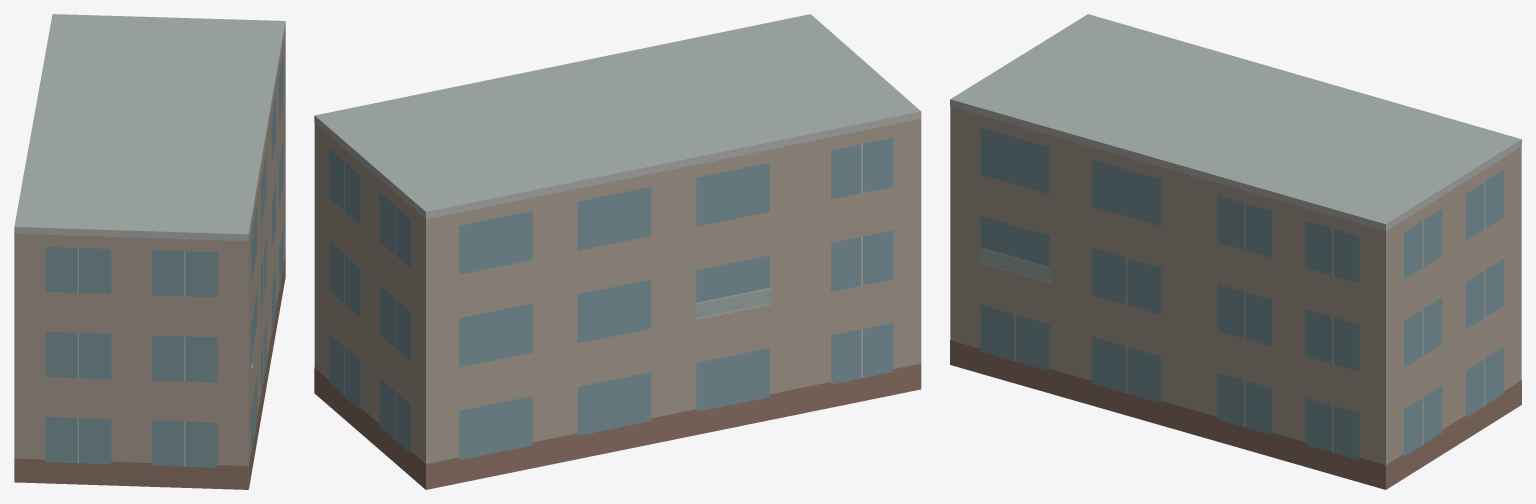
The model's file is survey-upis-32714487.glb.
3 views of the same model, side by side, from view 1: azimuth 30°, elevation 25°; view 2: azimuth 150°, elevation 25°; view 3: azimuth 270°, elevation 25° (orthographic). The views are drawn at different scales.
Visible parts, largest first — view 1: survey-upis-32714487.tmp; view 2: survey-upis-32714487.tmp; view 3: survey-upis-32714487.tmp.
Part boxes in pixels (<box>): survey-upis-32714487.tmp: <box>14,14,285,489</box>; survey-upis-32714487.tmp: <box>314,14,921,489</box>; survey-upis-32714487.tmp: <box>950,14,1521,489</box>.
Bounding box in the file's own units: 15.55 × 9.15 × 17.86.
